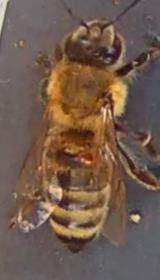varroa_mite: (69, 136, 108, 174)
